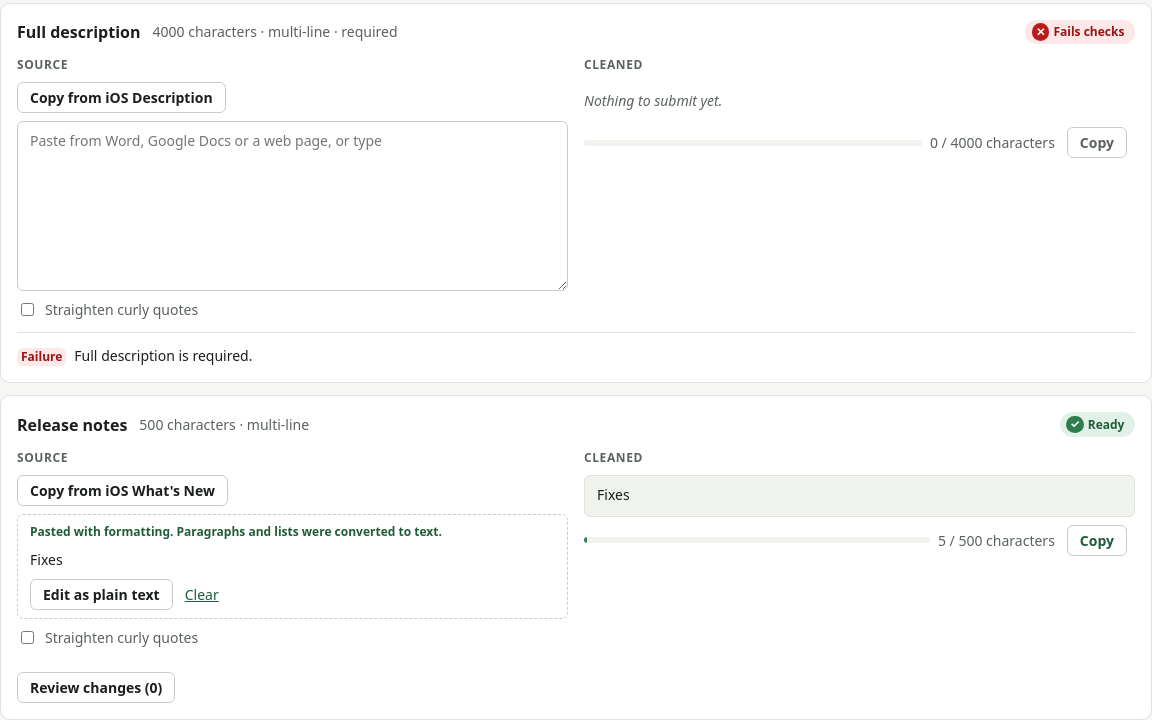
ListingPanel › clears a rich paste
(page scrolled)
What coordinates should you click on to do the following:
click the button "Clear"
I would click on:
 (202, 594)
Its box is [181, 580, 223, 609].
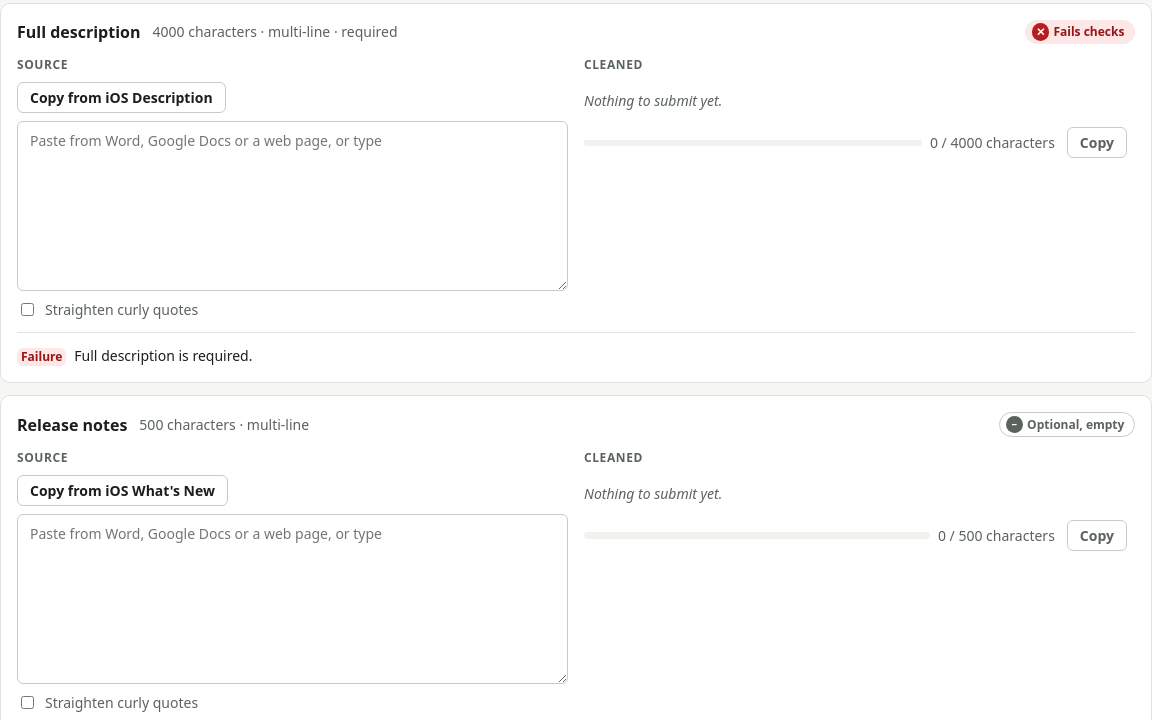
Check: the text box labelled "Release notes Source" is empty, box [17, 514, 568, 684]
